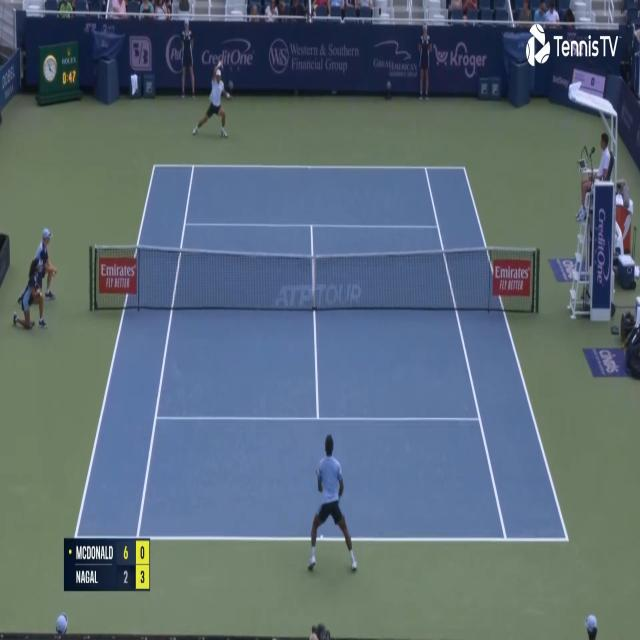tennis-player: (305, 430, 361, 578), (191, 62, 232, 141)
